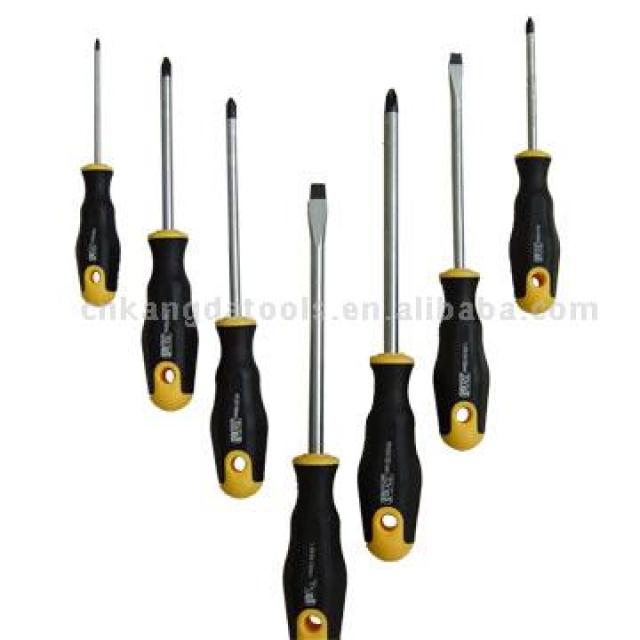screw_driver: (358, 89, 421, 560), (284, 184, 346, 640), (211, 102, 268, 498), (434, 52, 489, 450), (141, 58, 198, 411), (509, 18, 560, 314), (80, 39, 120, 306)
